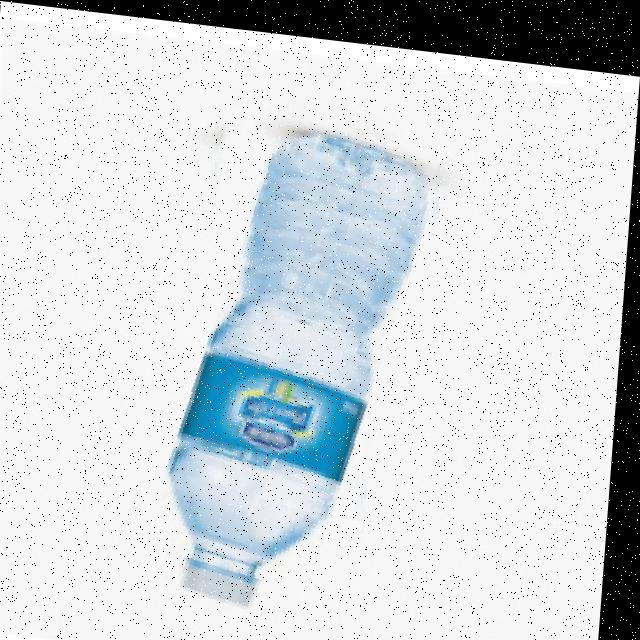litter: (116, 72, 454, 637), (214, 525, 333, 596)
